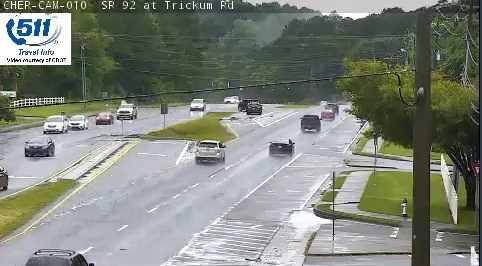car: (195, 140, 225, 161), (269, 138, 294, 155), (300, 115, 319, 132)
